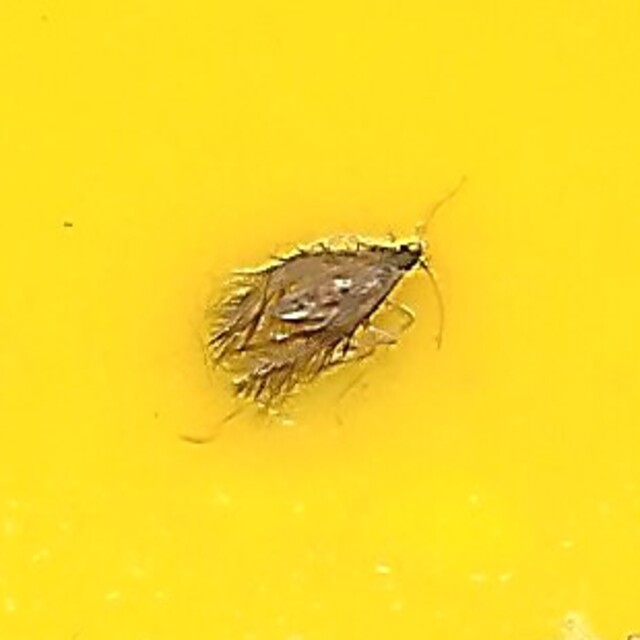Trichoptera: (206, 231, 434, 409)
